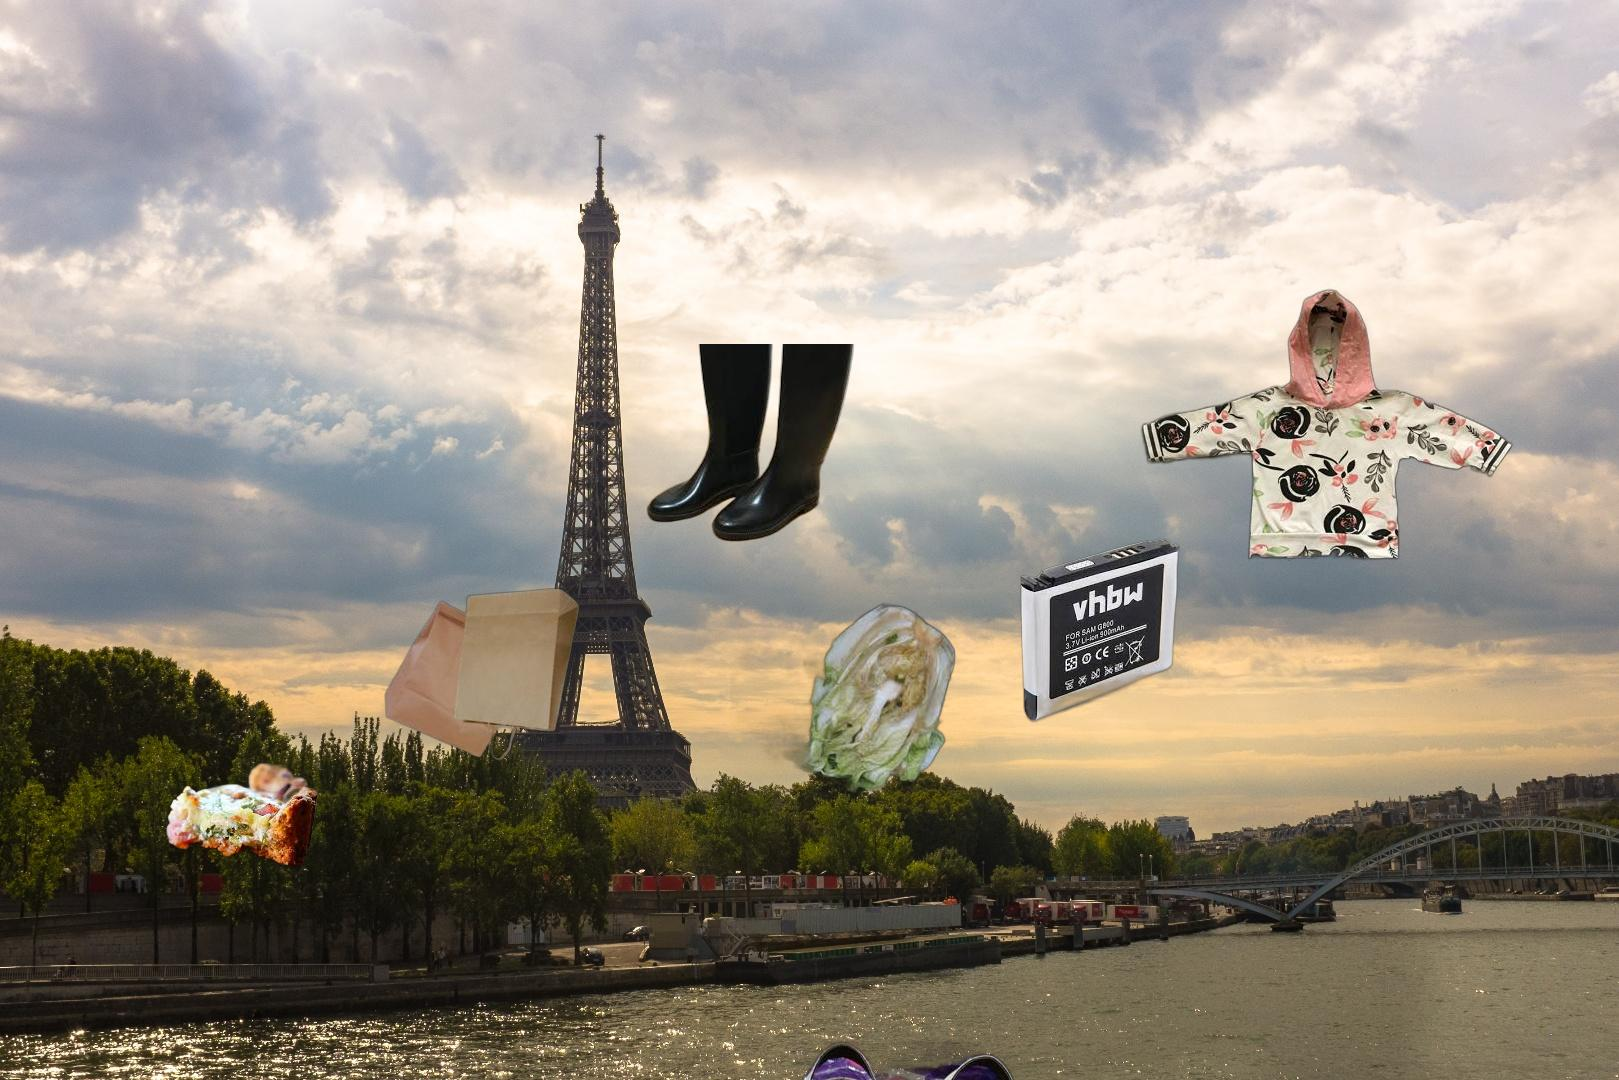battery: (1017, 536, 1181, 724)
biological: (731, 601, 958, 796), (164, 761, 405, 869)
clothes: (1139, 284, 1515, 564)
paper-bag: (385, 586, 582, 762)
shoes: (644, 344, 857, 544), (747, 1041, 1046, 1080), (1550, 1044, 1619, 1080)
